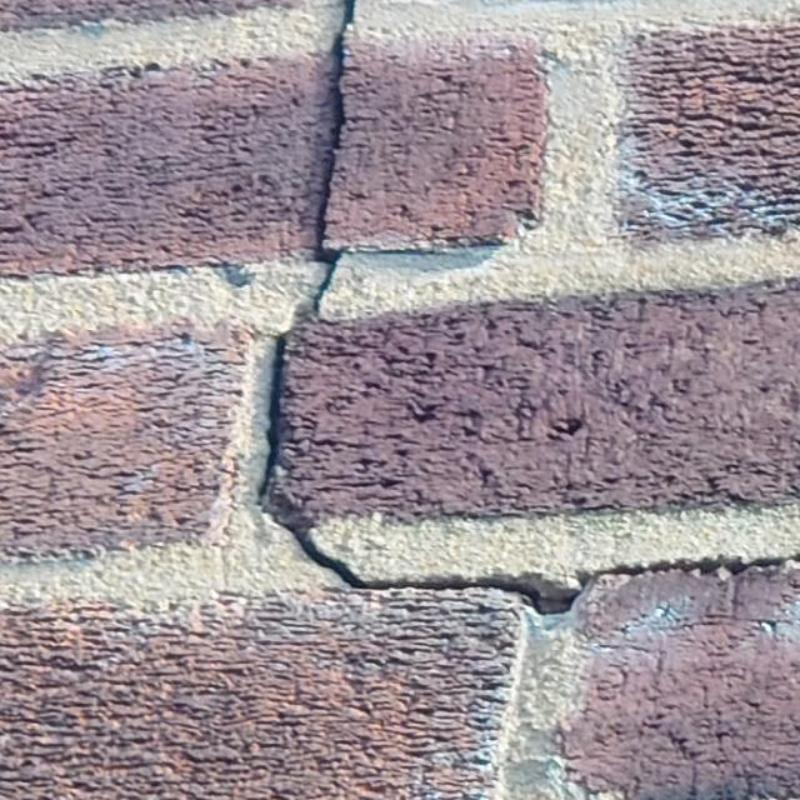pothole: (262, 0, 800, 614)
